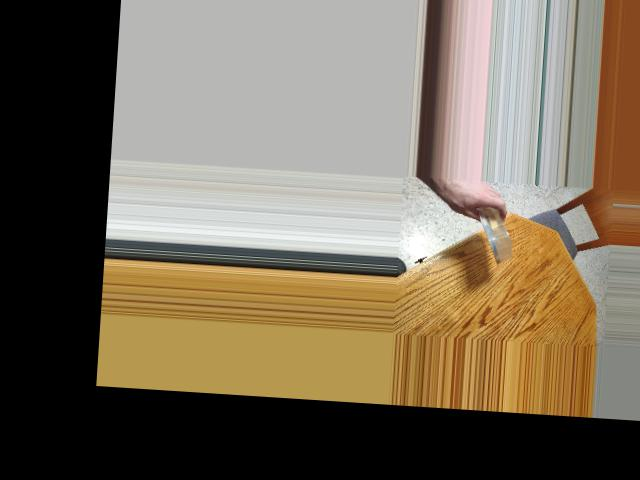cheese: (475, 198, 515, 267)
